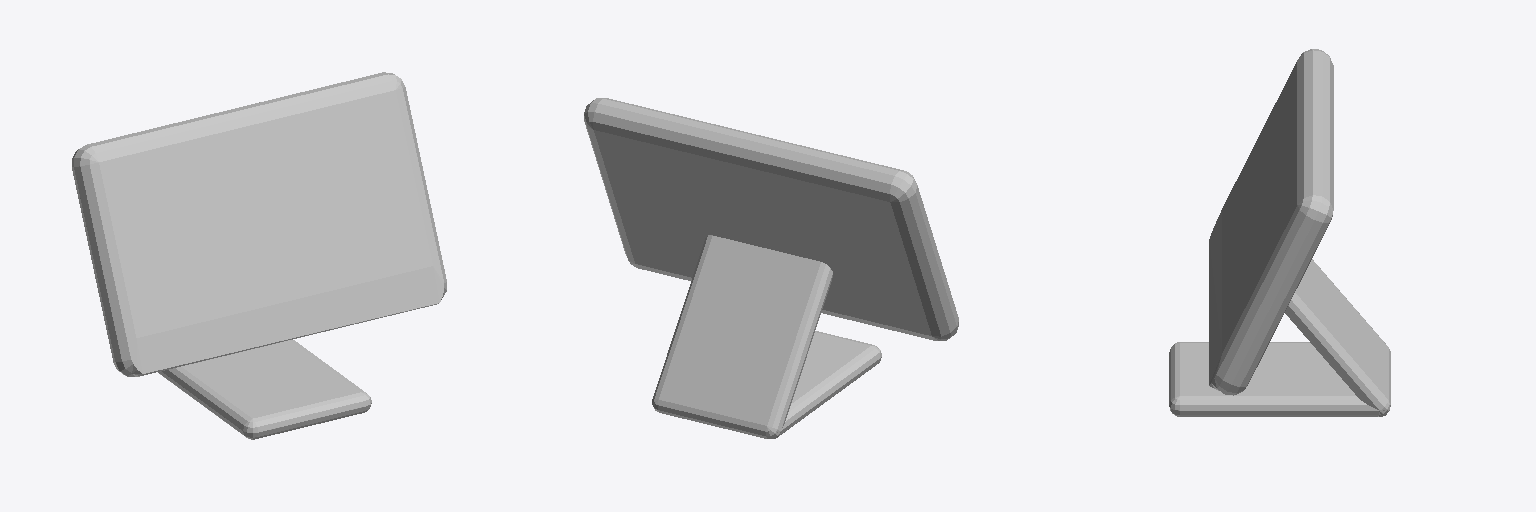
Rendered from computer.obj.
3 views of the same model, side by side, from view 1: azimuth 30°, elevation 25°; view 2: azimuth 150°, elevation 25°; view 3: azimuth 270°, elevation 25° (orthographic).
Parts seen in each view (by area): view 1: ChamferBox001, ChamferBox003; view 2: ChamferBox001, ChamferBox002, ChamferBox003; view 3: ChamferBox001, ChamferBox003, ChamferBox002.
Part boxes in pixels (left/top/right/bottom): ChamferBox001: left=72, top=72, right=446, bottom=376; ChamferBox003: left=158, top=340, right=371, bottom=439; ChamferBox001: left=584, top=98, right=958, bottom=340; ChamferBox002: left=652, top=235, right=832, bottom=438; ChamferBox003: left=777, top=331, right=881, bottom=435; ChamferBox001: left=1209, top=49, right=1333, bottom=395; ChamferBox003: left=1169, top=342, right=1384, bottom=416; ChamferBox002: left=1285, top=259, right=1390, bottom=416.
Bounding box in the file's own units: 400 × 309 × 233.